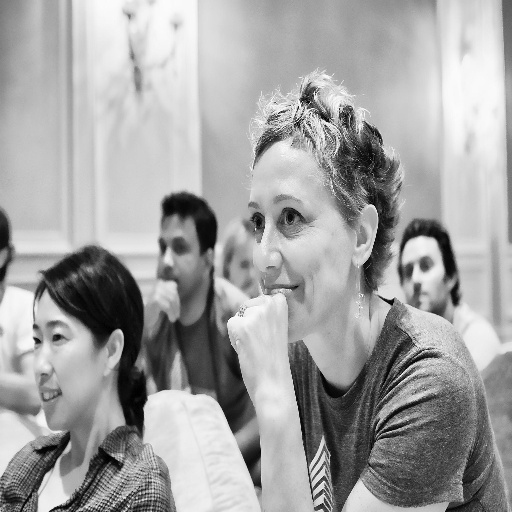hand: (225, 271, 310, 483), (144, 277, 180, 331)
